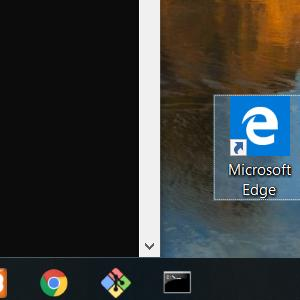edge: (229, 95, 290, 157)
